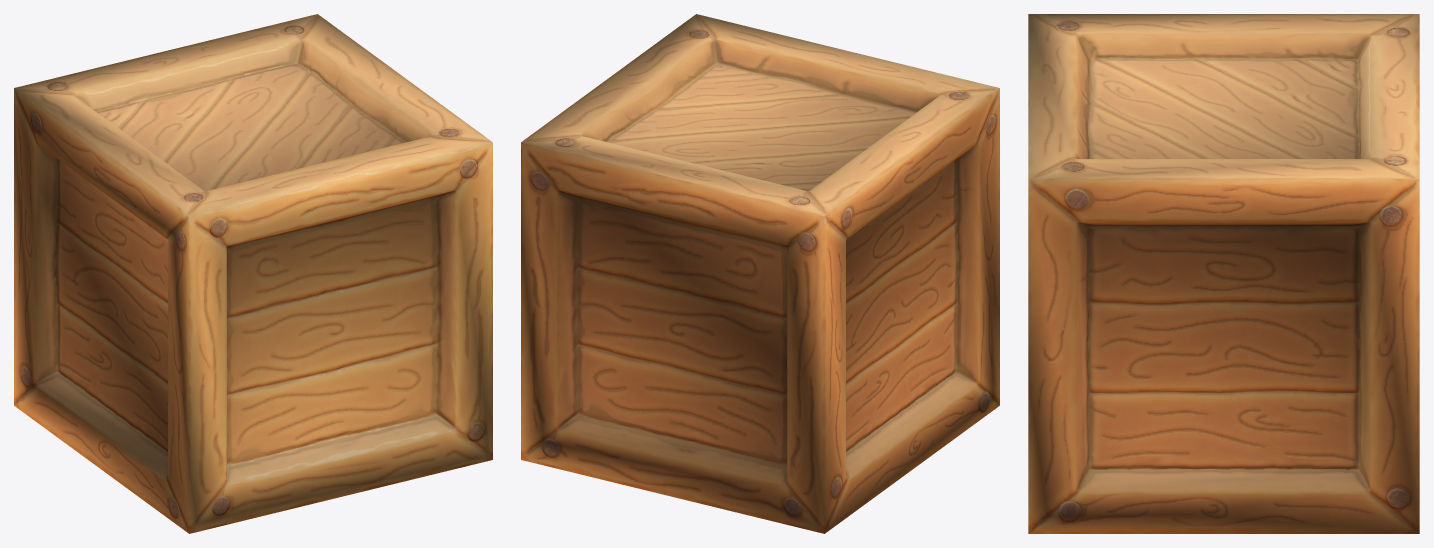
Rendered from Crate.fbx.
3 views of the same model, side by side, from view 1: azimuth 30°, elevation 25°; view 2: azimuth 150°, elevation 25°; view 3: azimuth 270°, elevation 25° (orthographic). The views are drawn at different scales.
Visible parts, largest first — view 1: Crate; view 2: Crate; view 3: Crate.
Part boxes in pixels (x1,y1,x2,y2): Crate: (14,14,492,533); Crate: (521,14,999,533); Crate: (1028,14,1419,533).
Bounding box in the file's own units: 0.6919 × 0.6919 × 0.6919.
Materials: 1 (1 with a texture image).
